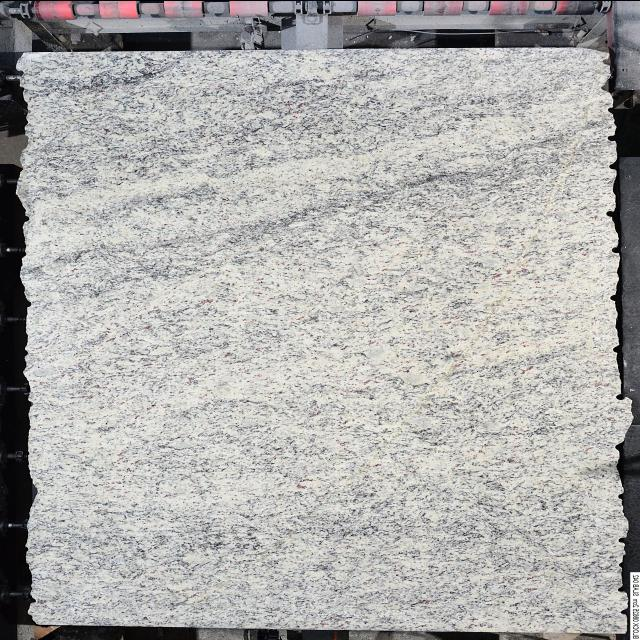chapa: (16, 48, 630, 631)
